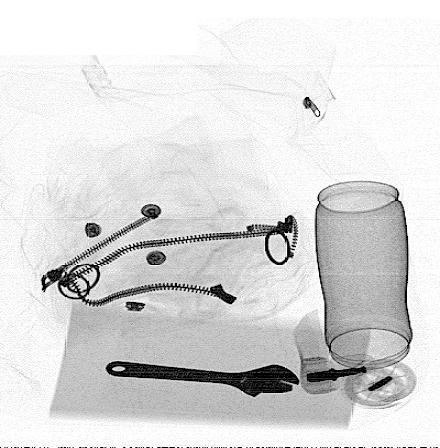Wrench: (104, 361, 302, 397)
